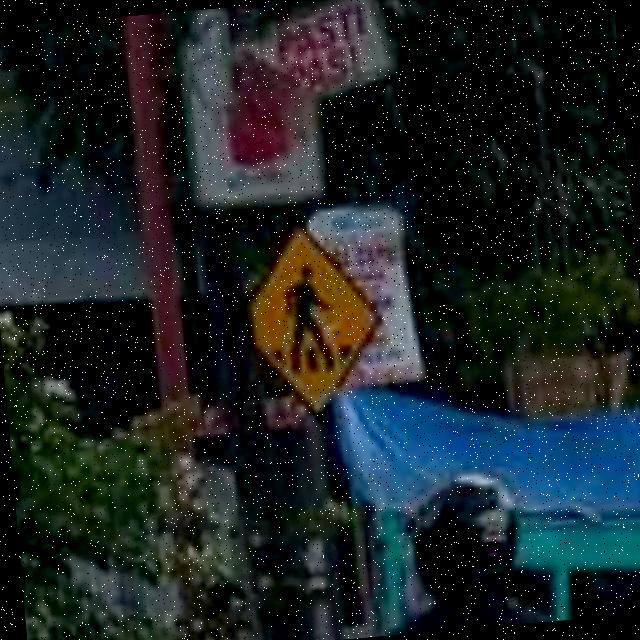Przejscie dla pieszych: (245, 226, 382, 390)
